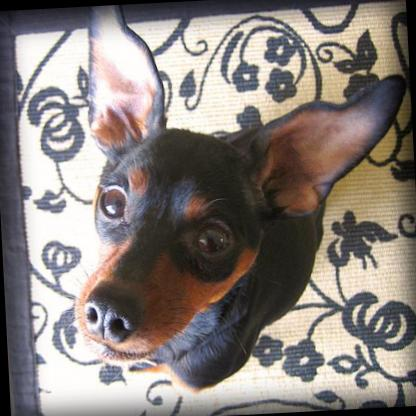miniature_pinscher: (54, 0, 416, 400)
